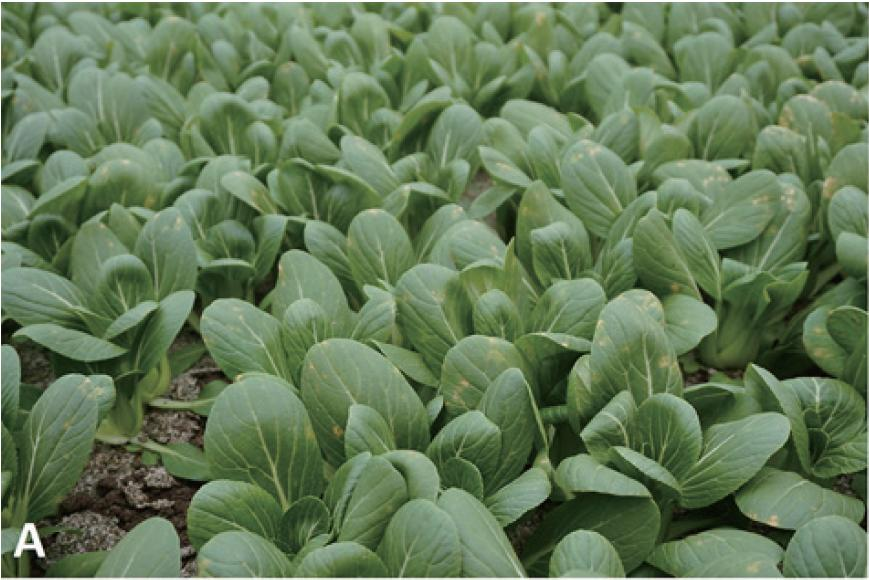Bok-Choy-Diseased: (291, 342, 427, 465), (589, 292, 694, 405)
